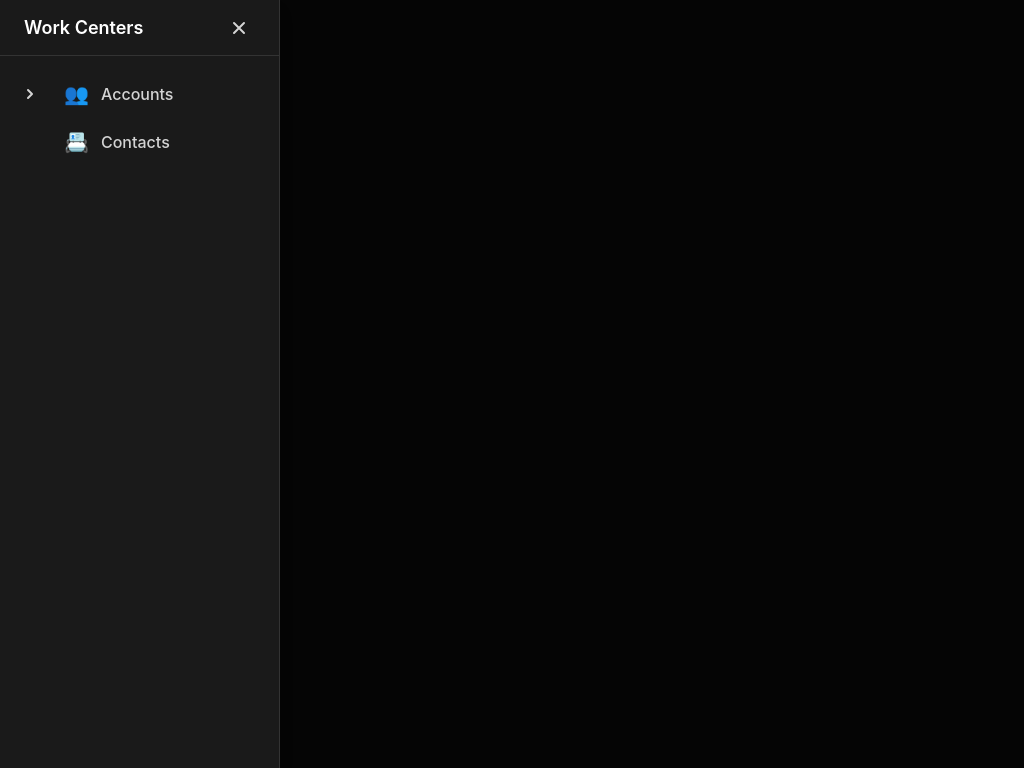
Sidebar › nested workcenters › hides subitems when collapse button is clicked
The width and height of the screenshot is (1024, 768).
Click the button named "Expand Accounts". click: (30, 94)
box: [16,80,44,108]
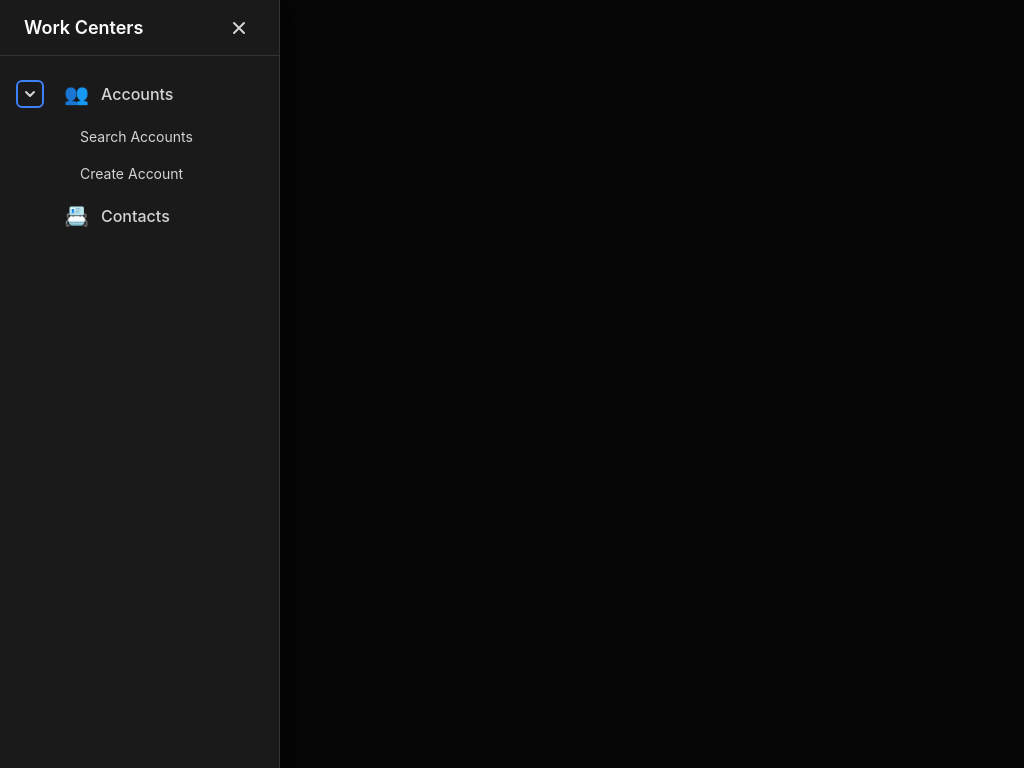
Check: the text "Search Accounts" is shown, box [80,128,193,145]
Click the button named "Collapse Accounts". click: (30, 94)
box: [16,80,44,108]
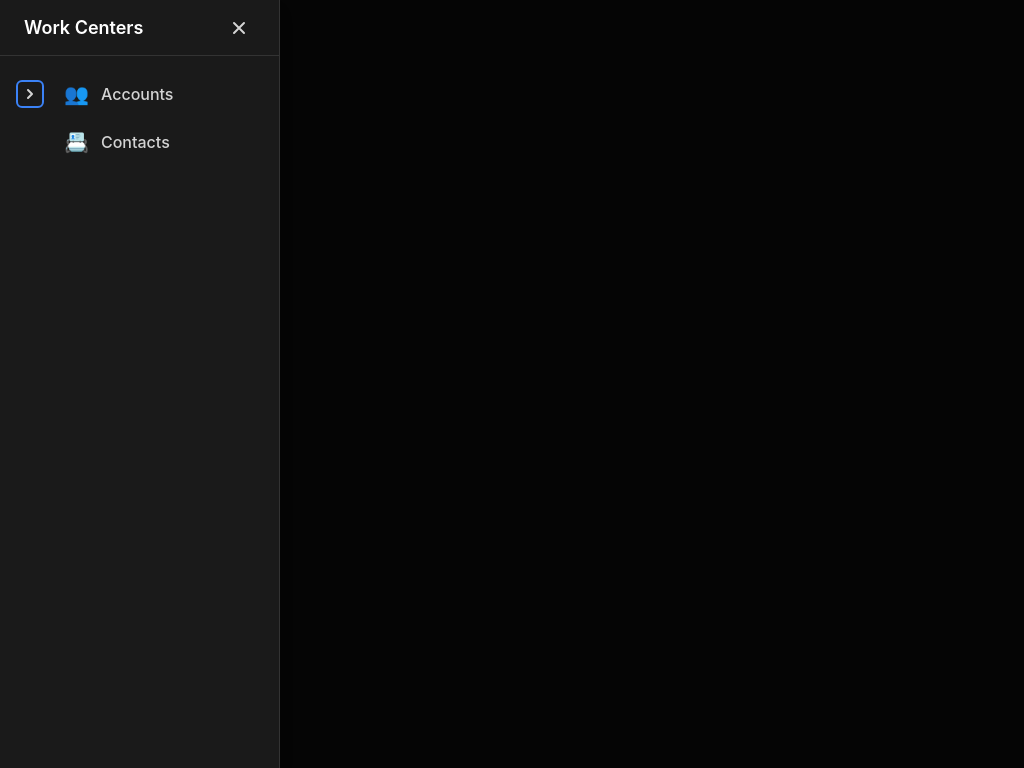
Check: the button "Search Accounts" is gone
